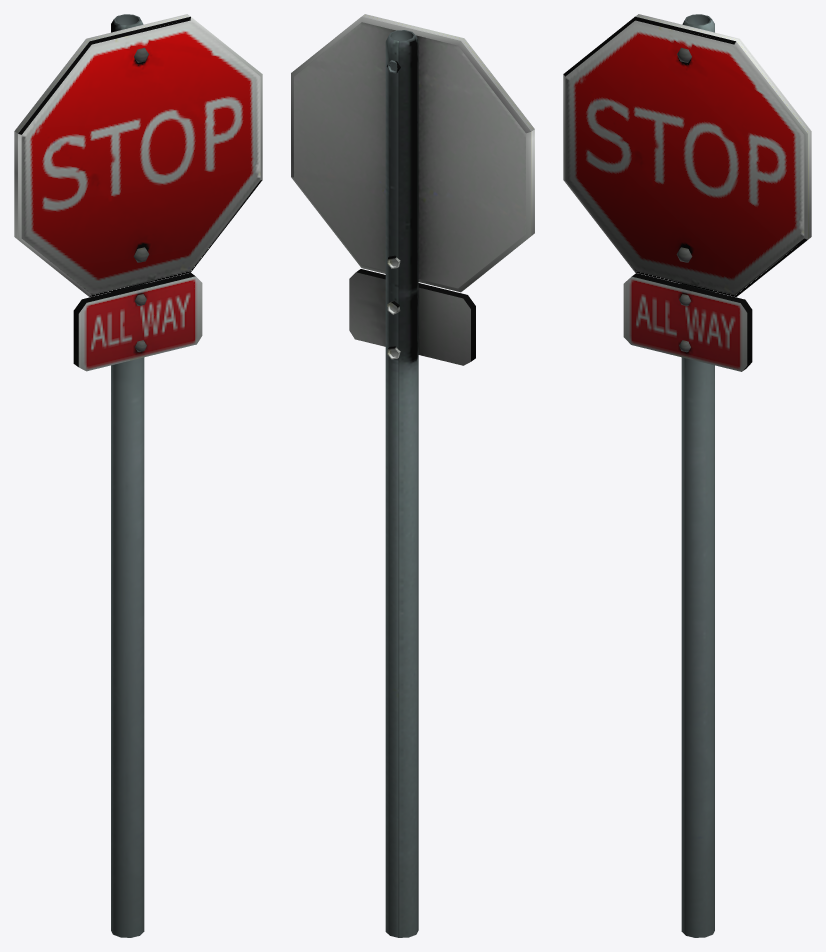
Rendered from stopsign.fbx.
The picture shows the model from 3 angles, left to right: view 1: azimuth 30°, elevation 25°; view 2: azimuth 150°, elevation 25°; view 3: azimuth 330°, elevation 25°; orthographic projection.
Visible parts, largest first — view 1: polymsh; view 2: polymsh; view 3: polymsh.
Boxes of the visible parts, <box> form: polymsh: <box>14,14,262,937</box>; polymsh: <box>291,14,534,937</box>; polymsh: <box>563,14,811,937</box>.
Size of the model in its own units: 897 by 3196 by 169.
1 material, 1 textured.
